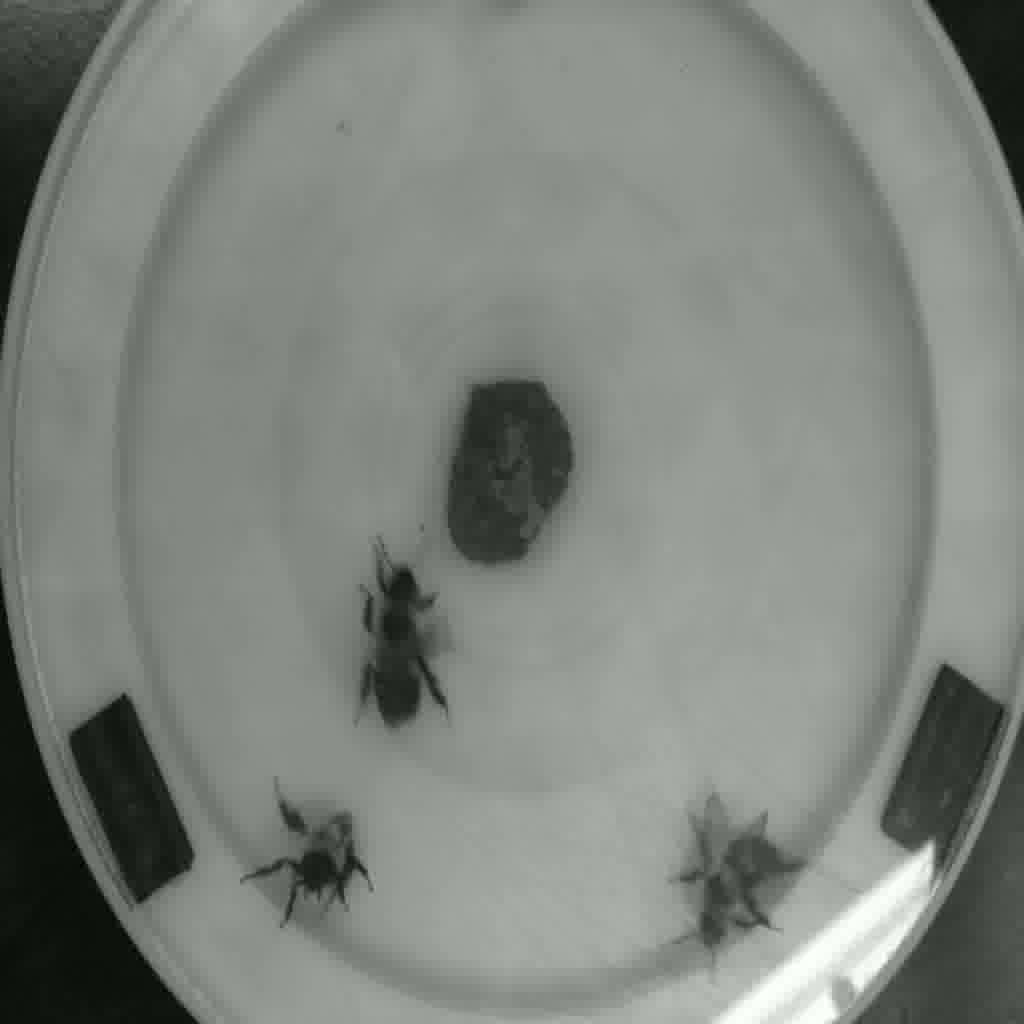bee: (662, 800, 811, 962), (357, 546, 479, 742), (236, 789, 391, 925)
